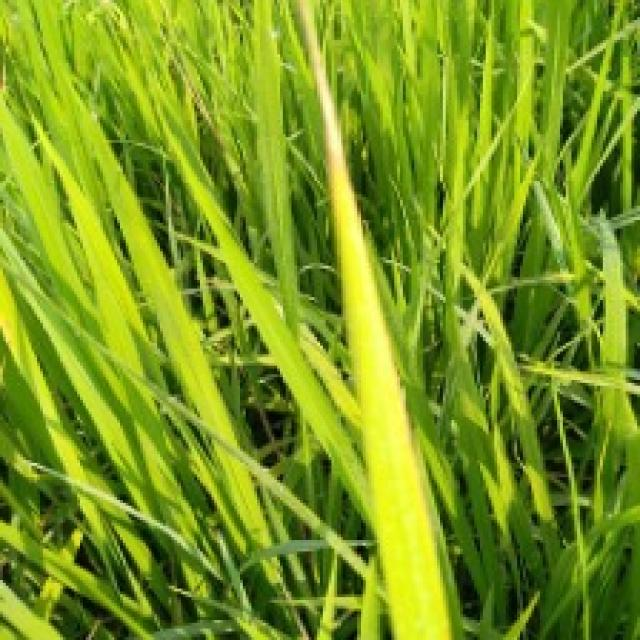Rice___Bacterial_Leaf_Blight: (286, 0, 468, 637)
